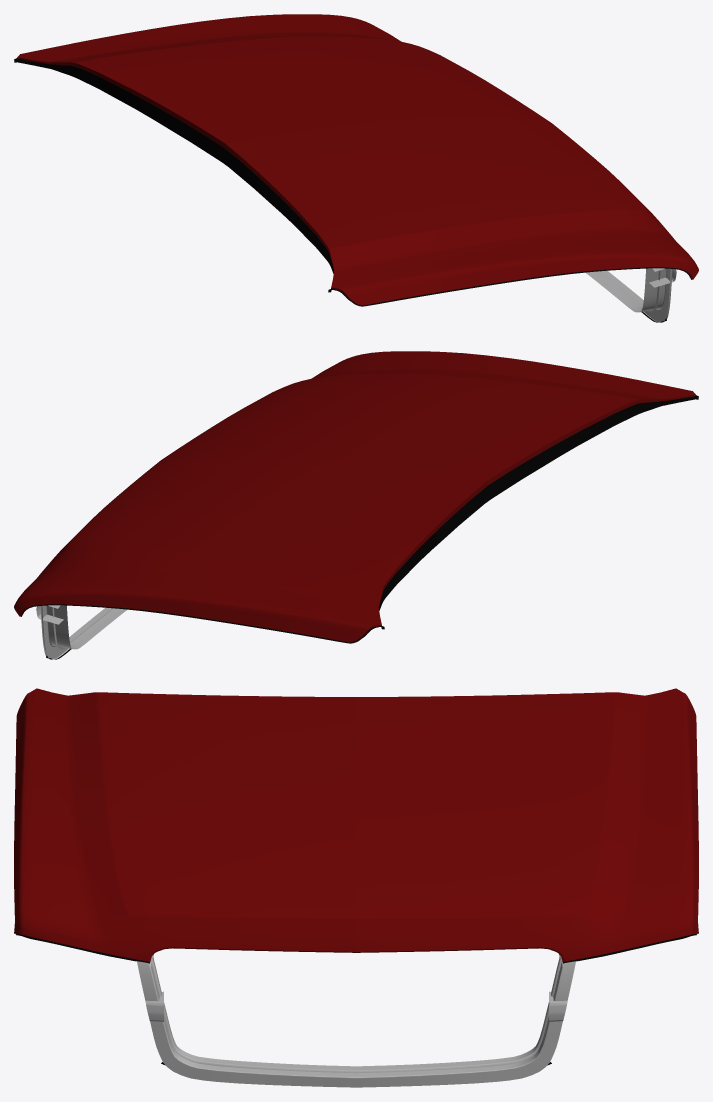
3 views of the same model, one above another, from view 1: azimuth 30°, elevation 25°; view 2: azimuth 150°, elevation 25°; view 3: azimuth 270°, elevation 25° (orthographic).
Parts seen in each view (by area): view 1: U805_4A_101B_C_U805_4A_101B_C_1_DaS, U805_4A_101B_C_U805_4A_101B_C_3_D, U805_4A_101B_C_2_DaS_U805_4A_101B_C, U805_4A_101B_C_U805_4A_101B_C_1_DaS_E; view 2: U805_4A_101B_C_U805_4A_101B_C_1_DaS, U805_4A_101B_C_U805_4A_101B_C_3_D, U805_4A_101B_C_2_DaS_U805_4A_101B_C, U805_4A_101B_C_U805_4A_101B_C_1_DaS_E; view 3: U805_4A_101B_C_U805_4A_101B_C_1_DaS, U805_4A_101B_C_2_DaS_U805_4A_101B_C, U805_4A_101B_C_U805_4A_101B_C_1_DaS_E, U805_4A_101B_C_U805_4A_101B_C_3_D.
Boxes of the visible parts, x1=… form: U805_4A_101B_C_U805_4A_101B_C_1_DaS: x1=17, y1=14, x2=698, y2=305; U805_4A_101B_C_U805_4A_101B_C_3_D: x1=14, y1=57, x2=692, y2=306; U805_4A_101B_C_2_DaS_U805_4A_101B_C: x1=586, y1=268, x2=676, y2=322; U805_4A_101B_C_U805_4A_101B_C_1_DaS_E: x1=17, y1=57, x2=693, y2=305; U805_4A_101B_C_U805_4A_101B_C_1_DaS: x1=14, y1=351, x2=695, y2=642; U805_4A_101B_C_U805_4A_101B_C_3_D: x1=20, y1=394, x2=698, y2=643; U805_4A_101B_C_2_DaS_U805_4A_101B_C: x1=36, y1=605, x2=126, y2=659; U805_4A_101B_C_U805_4A_101B_C_1_DaS_E: x1=19, y1=394, x2=695, y2=642; U805_4A_101B_C_U805_4A_101B_C_1_DaS: x1=14, y1=688, x2=698, y2=961; U805_4A_101B_C_2_DaS_U805_4A_101B_C: x1=137, y1=954, x2=575, y2=1087; U805_4A_101B_C_U805_4A_101B_C_1_DaS_E: x1=148, y1=947, x2=564, y2=961; U805_4A_101B_C_U805_4A_101B_C_3_D: x1=16, y1=934, x2=696, y2=963.
Bounding box in the file's own units: 112 × 53.69 × 158.
